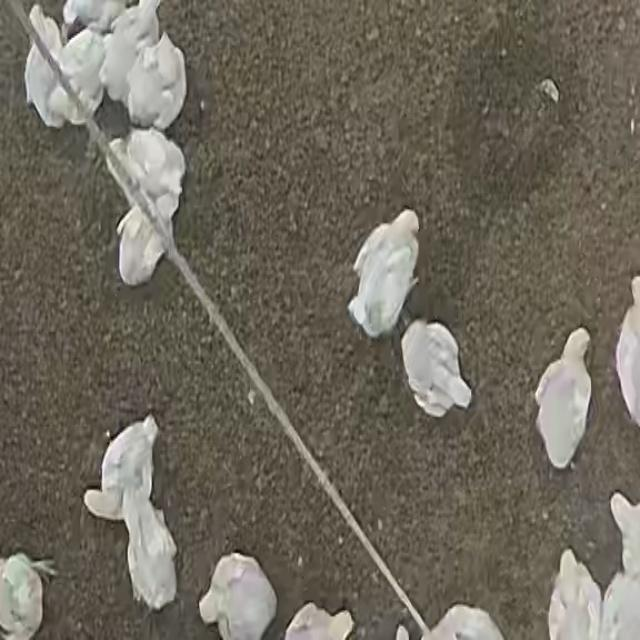chicken: (355, 201, 420, 341), (530, 324, 590, 471), (84, 416, 162, 526), (106, 496, 180, 606), (396, 312, 468, 422), (196, 552, 279, 640), (106, 122, 186, 208), (61, 19, 108, 130), (546, 548, 602, 640), (134, 32, 186, 131), (109, 4, 161, 91), (117, 205, 167, 288), (25, 7, 60, 125)
